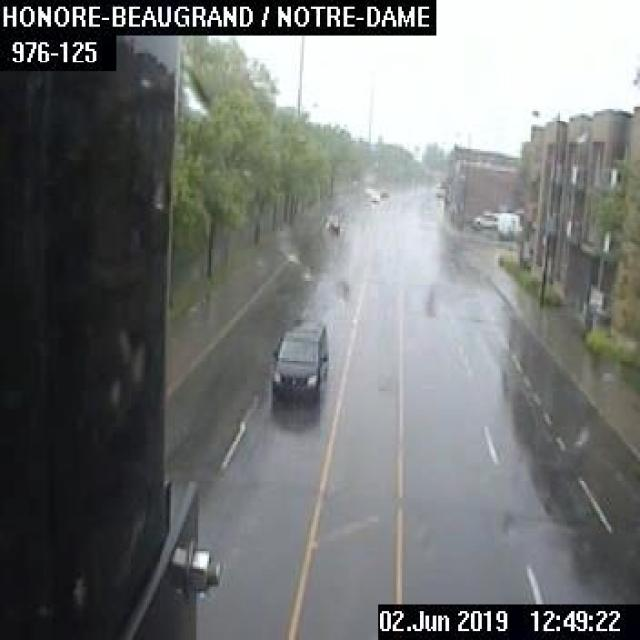vehicle: (269, 316, 328, 396), (472, 210, 497, 227), (323, 213, 339, 231), (368, 192, 379, 202)
